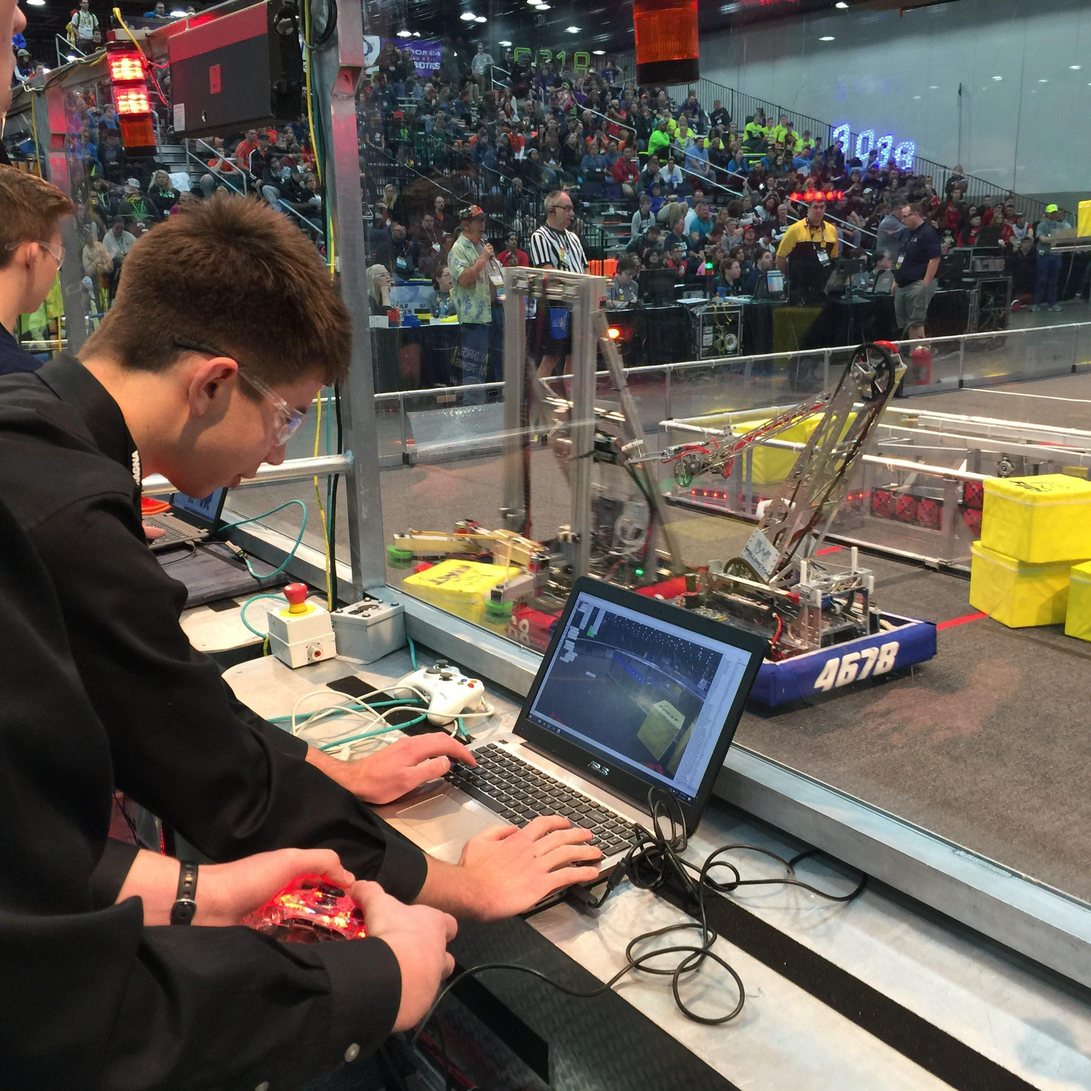robot: (386, 257, 707, 683), (625, 330, 949, 729)
